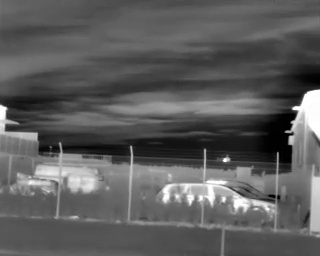HELICOPTER: (216, 153, 235, 167)
